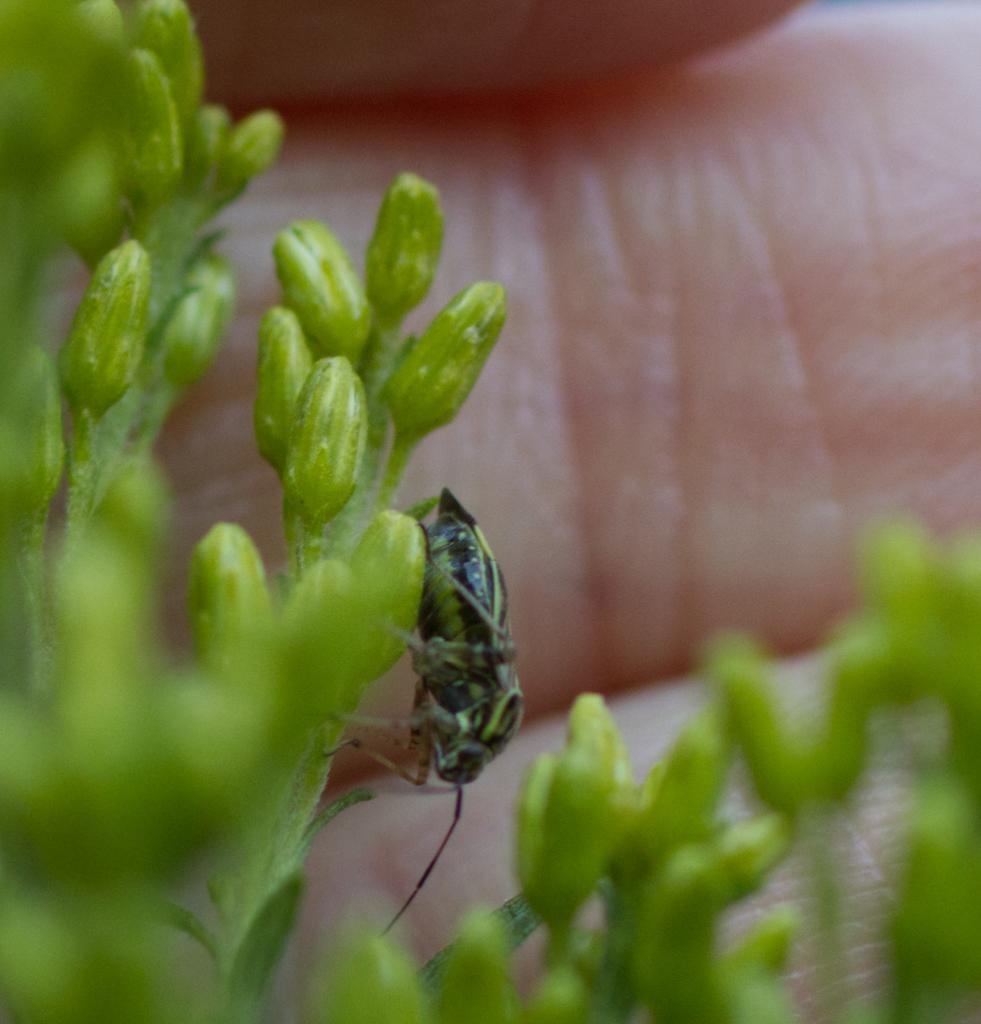plant_bugs: (319, 428, 622, 989)
